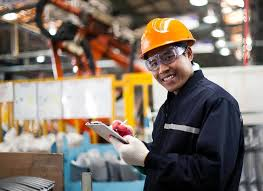Person_wearing_helmet: (136, 15, 197, 72)
